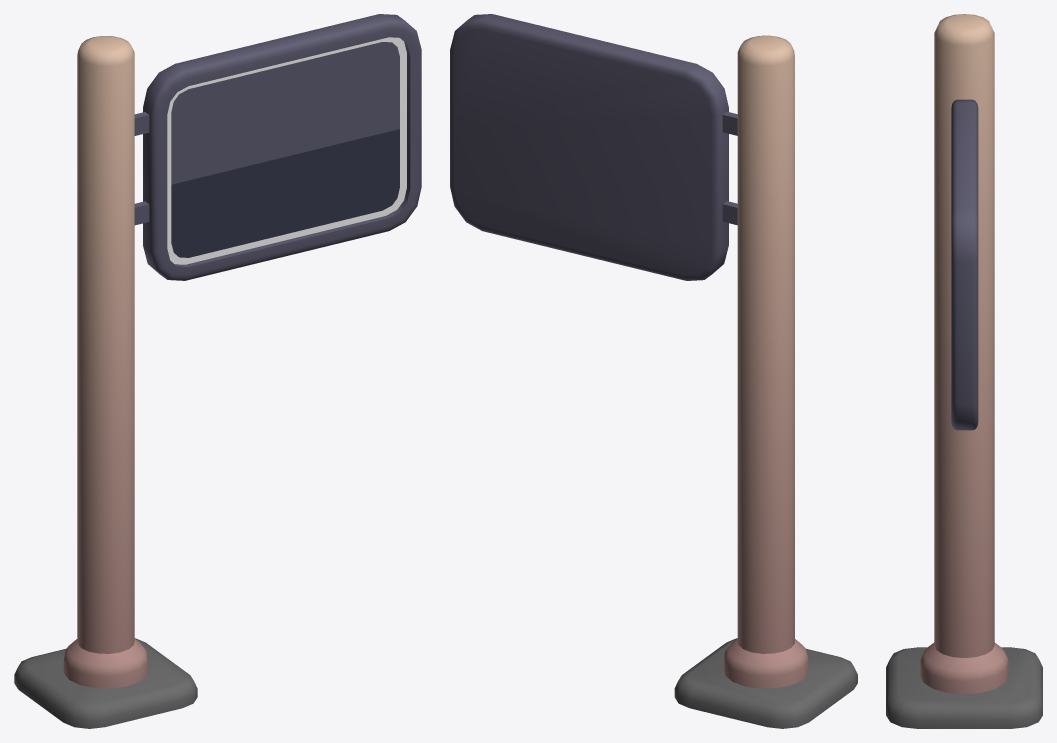
The model's file is BusStop_Sign.fbx.
3 views of the same model, side by side, from view 1: azimuth 30°, elevation 25°; view 2: azimuth 150°, elevation 25°; view 3: azimuth 270°, elevation 25° (orthographic). The views are drawn at different scales.
Parts seen in each view (by area): view 1: BusStop_Sign.001, BusStop_Sign; view 2: BusStop_Sign.001, BusStop_Sign; view 3: BusStop_Sign, BusStop_Sign.001.
Boxes of the visible parts, box(x1,y1,x2,y2) form: BusStop_Sign.001: box(143, 14, 421, 280); BusStop_Sign: box(14, 36, 197, 728); BusStop_Sign.001: box(450, 14, 728, 280); BusStop_Sign: box(674, 35, 857, 728); BusStop_Sign: box(886, 14, 1042, 728); BusStop_Sign.001: box(951, 99, 978, 430).
Size of the model in its own units: 789 by 1294 by 273.
